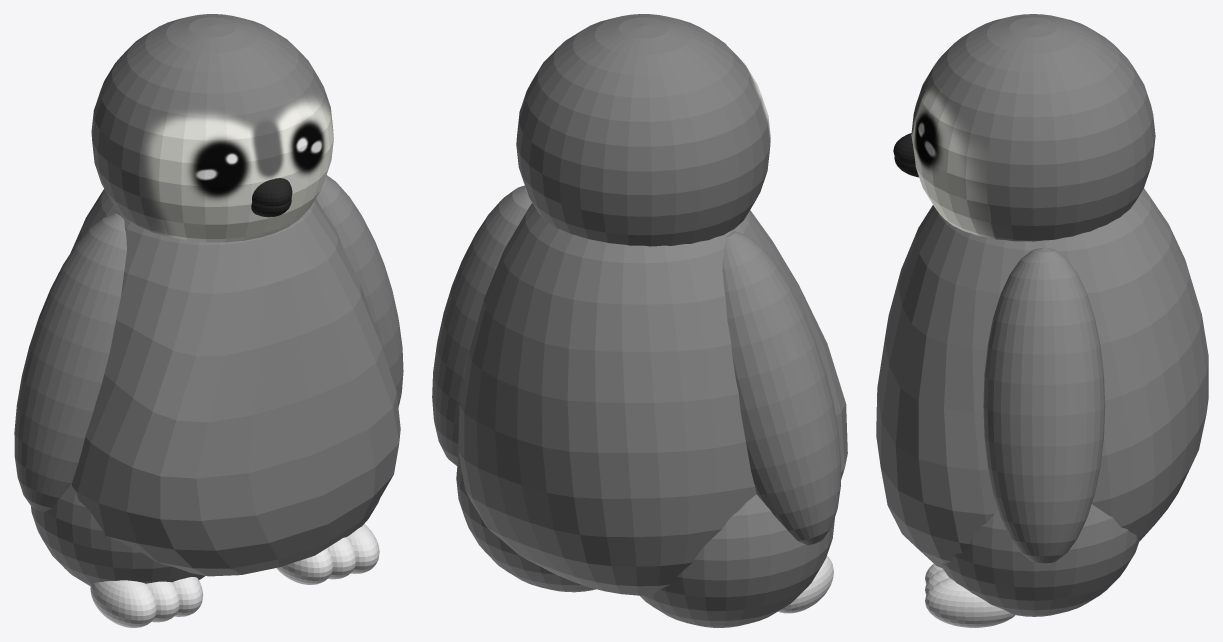
The model's file is pingo.fbx.
The picture shows the model from 3 angles, left to right: view 1: azimuth 30°, elevation 25°; view 2: azimuth 150°, elevation 25°; view 3: azimuth 270°, elevation 25°; orthographic projection. The views are drawn at different scales.
Parts seen in each view (by area): view 1: Sphere, Sphere.011, Sphere.001, Sphere.003, Sphere.002, Sphere.007, Sphere.008, Sphere.010, Sphere.006, Sphere.005, Sphere.012, Sphere.009; view 2: Sphere, Sphere.011, Sphere.001, Sphere.003, Sphere.002, Sphere.004, Sphere.007; view 3: Sphere, Sphere.011, Sphere.002, Sphere.004, Sphere.010, Sphere.012.
Boxes of the visible parts, <box> form: Sphere: <box>70,189,400,576</box>; Sphere.011: <box>91,14,333,242</box>; Sphere.001: <box>14,213,126,512</box>; Sphere.003: <box>31,484,204,586</box>; Sphere.002: <box>316,175,403,407</box>; Sphere.007: <box>90,580,156,627</box>; Sphere.008: <box>276,548,332,584</box>; Sphere.010: <box>347,524,379,573</box>; Sphere.006: <box>146,581,179,622</box>; Sphere.005: <box>172,577,203,616</box>; Sphere.012: <box>252,178,292,206</box>; Sphere.009: <box>327,537,355,579</box>; Sphere: <box>458,203,847,595</box>; Sphere.011: <box>516,14,770,246</box>; Sphere.001: <box>722,231,841,545</box>; Sphere.003: <box>640,494,834,627</box>; Sphere.002: <box>432,185,531,465</box>; Sphere.004: <box>456,456,595,592</box>; Sphere.007: <box>778,556,833,613</box>; Sphere: <box>876,188,1208,568</box>; Sphere.011: <box>911,14,1155,241</box>; Sphere.002: <box>983,247,1105,564</box>; Sphere.004: <box>941,504,1139,616</box>; Sphere.010: <box>925,578,1015,627</box>; Sphere.012: <box>893,133,915,164</box>.
Size of the model in its own units: 288 by 401 by 220.
4 materials, 1 textured.
